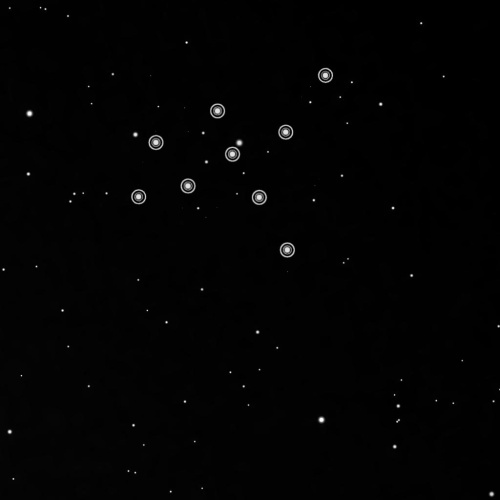cygnus: (125, 62, 337, 261)
